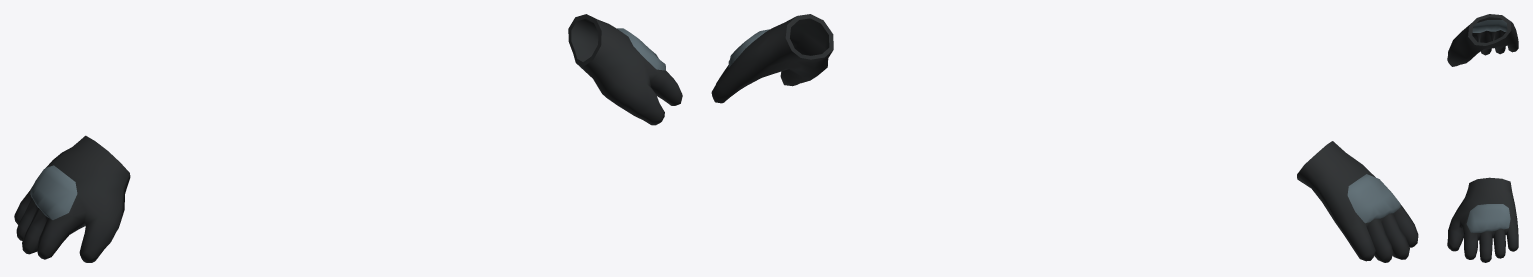
File: Gloves_11.glb
The picture shows the model from 3 angles, left to right: view 1: azimuth 30°, elevation 25°; view 2: azimuth 150°, elevation 25°; view 3: azimuth 270°, elevation 25°; orthographic projection. The views are drawn at different scales.
Parts seen in each view (by area): view 1: Gloves_11; view 2: Gloves_11; view 3: Gloves_11.
Boxes of the visible parts, box(x1,y1,x2,y2) form: Gloves_11: box(14, 14, 682, 262); Gloves_11: box(711, 14, 1418, 262); Gloves_11: box(1447, 14, 1518, 262).
Bounding box in the file's own units: 0.8285 × 0.1148 × 0.1181.
1 material, 1 textured.
